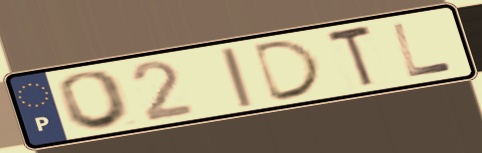2: (129, 59, 199, 125)
D: (251, 36, 327, 105)
I: (216, 44, 257, 110)
L: (389, 21, 458, 80)
O: (55, 68, 136, 133)
T: (323, 22, 377, 92)
